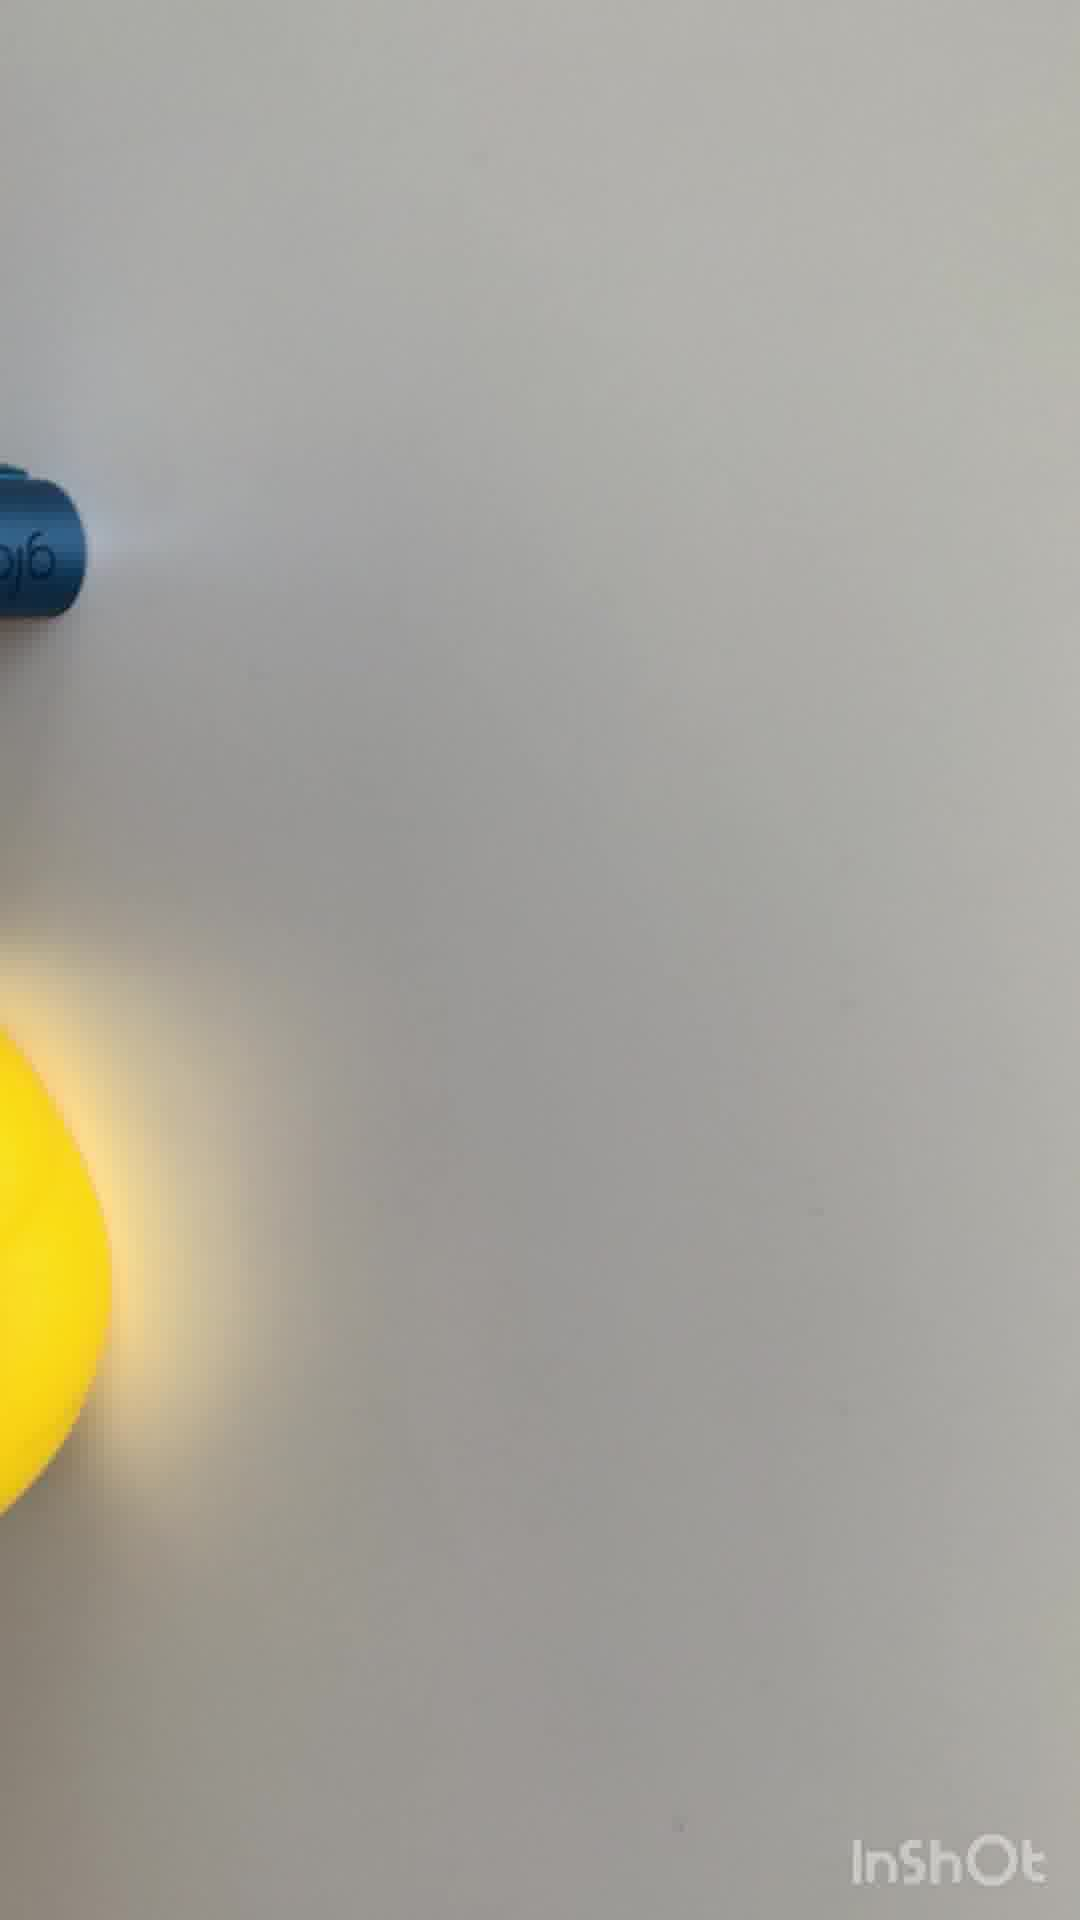duck: (1, 1007, 113, 1528)
glo: (1, 452, 84, 682)
